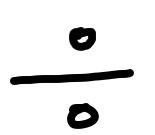div: (6, 27, 135, 128)
